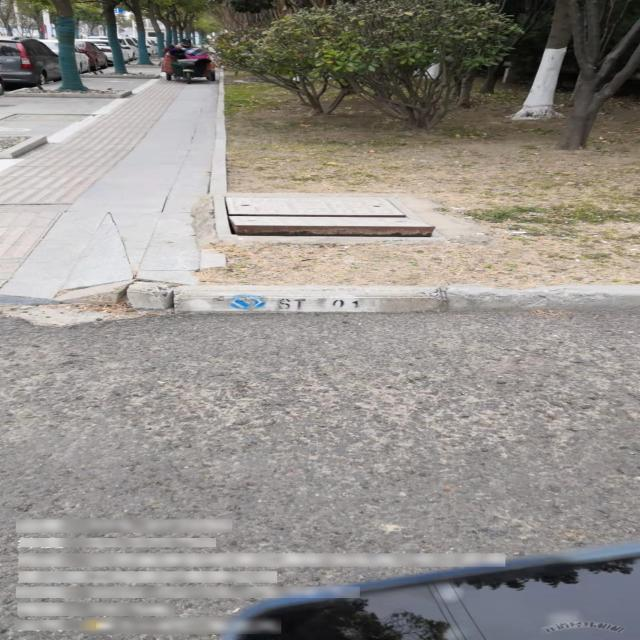Faulty: (210, 192, 443, 242)
